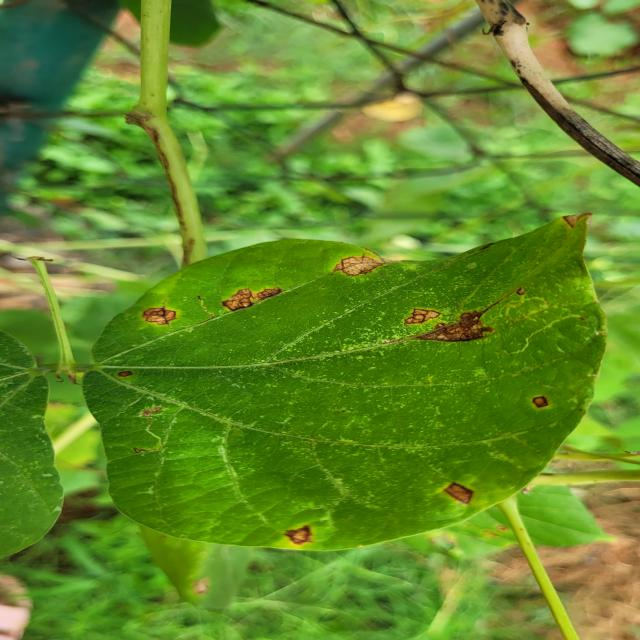Dolicos bean_cercospora leaf spot: (88, 214, 608, 552)
